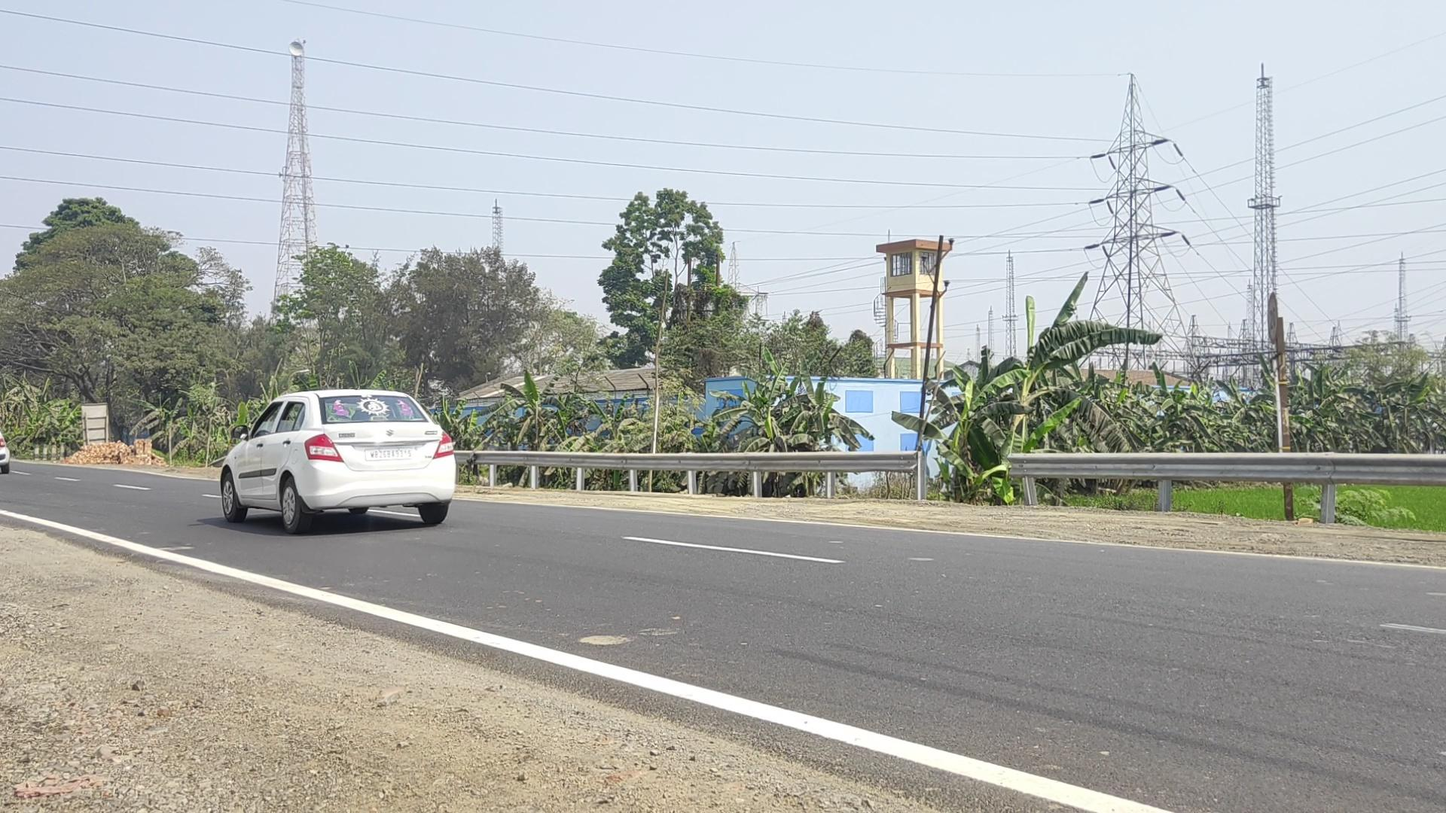car: (220, 388, 456, 534)
